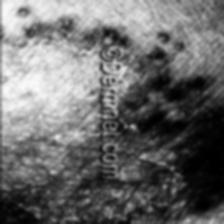Toxin: (137, 94, 224, 224), (0, 4, 74, 48)
